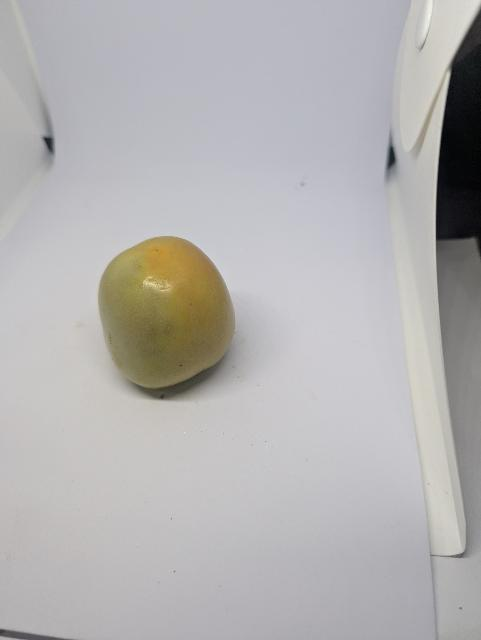breaker: (91, 230, 243, 394)
